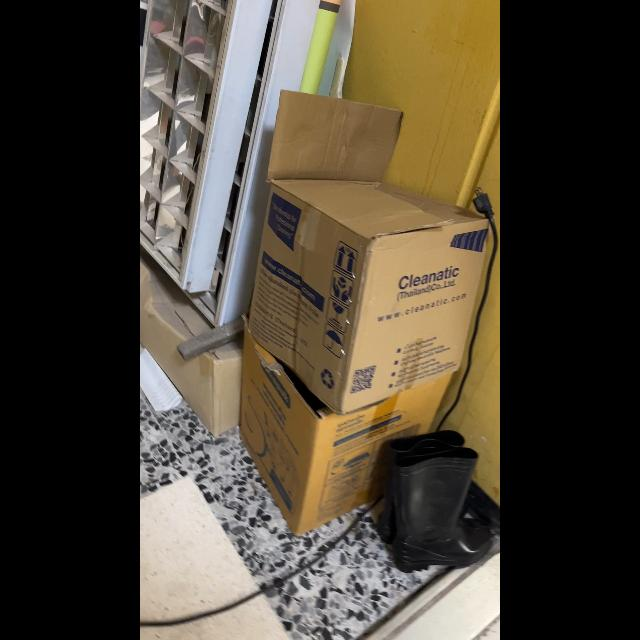cardboard_box: (258, 82, 494, 420), (231, 322, 461, 536), (140, 270, 262, 436)
